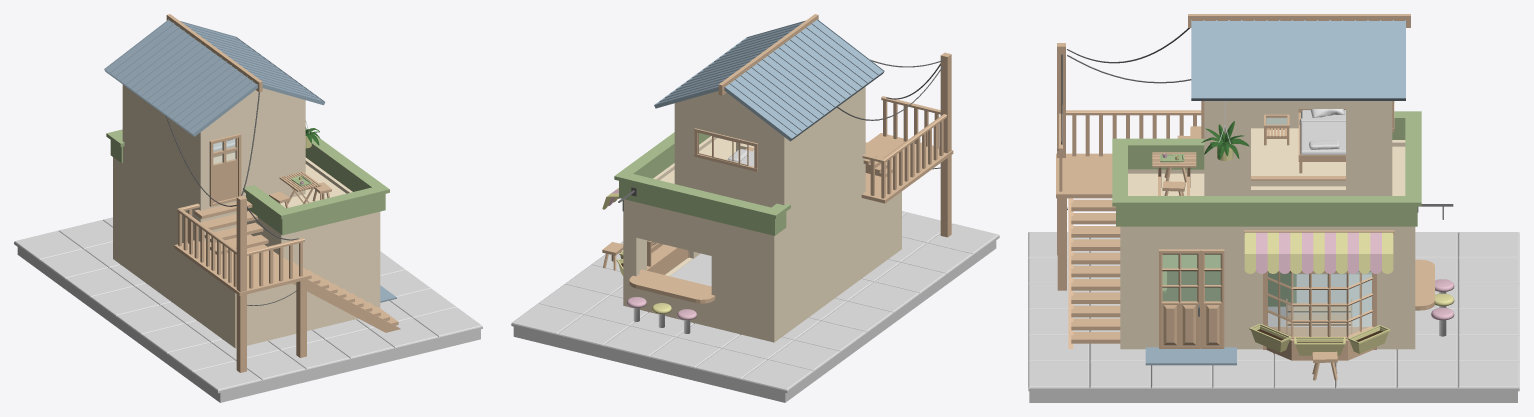
File: house-basic.glb
The picture shows the model from 3 angles, left to right: view 1: azimuth 30°, elevation 25°; view 2: azimuth 150°, elevation 25°; view 3: azimuth 270°, elevation 25°; orthographic projection. The views are drawn at different scales.
Visible parts, largest first — view 1: house.002, sidewlak, CLEAN HOUSE BOTTOM, stair, ledge, sidewalk, door, small stair, table, Catenary; view 2: house.002, sidewlak, CLEAN HOUSE BOTTOM, stair, ledge, sidewalk, Cube.008, WINDOW, Plane.002, Cube.010, Catenary; view 3: sidewlak, house.002, CLEAN HOUSE BOTTOM, ledge, stair, Cube.007, front door, pink yellow shade, sidewalk, Cube.037, Plane.002, MATTRESS (+13 smaller).
Boxes of the visible parts, x1,y1,x2,y2 form: house.002: (104,14,325,219); sidewlak: (14,217,482,393); CLEAN HOUSE BOTTOM: (113,157,380,348); stair: (174,195,400,372); ledge: (106,128,389,235); sidewalk: (17,247,480,402); door: (209,133,241,206); small stair: (194,201,268,254); table: (279,171,321,205); Catenary: (166,92,298,240); house.002: (654,14,884,225); sidewlak: (511,211,999,392); CLEAN HOUSE BOTTOM: (623,136,901,342); stair: (861,52,953,237); ledge: (614,132,790,235); sidewalk: (513,240,996,402); Cube.008: (629,269,715,303); WINDOW: (694,128,757,171); Plane.002: (670,253,711,286); Cube.010: (647,244,687,274); Catenary: (837,59,943,120); sidewlak: (1028,232,1519,391); house.002: (1188,14,1410,195); CLEAN HOUSE BOTTOM: (1120,140,1415,350); ledge: (1112,111,1421,226); stair: (1056,43,1201,348); Cube.007: (1263,270,1376,360); front door: (1159,249,1224,348); pink yellow shade: (1244,230,1394,273); sidewalk: (1029,391,1517,402); Cube.037: (1162,254,1296,306); Plane.002: (1268,274,1371,326); MATTRESS: (1299,110,1345,154).
Bounding box in the file's own units: 9.9 × 8.81 × 13.2.
